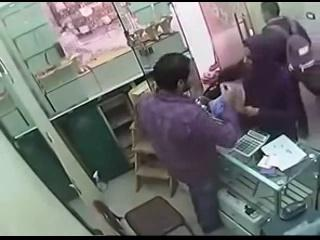Normal: (135, 52, 243, 232), (248, 3, 320, 140), (229, 30, 305, 142), (92, 196, 194, 236), (233, 128, 270, 158)
